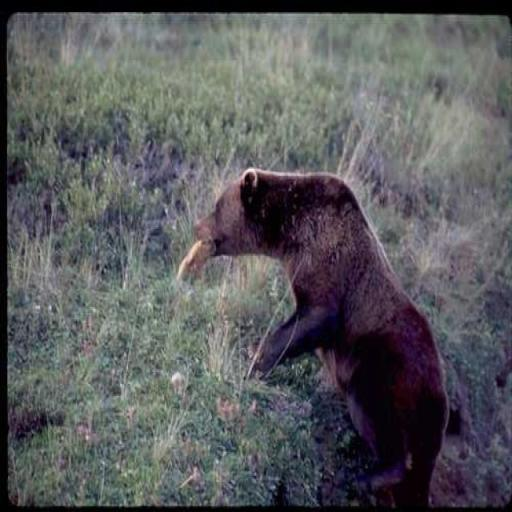Bear: (176, 165, 450, 508)
